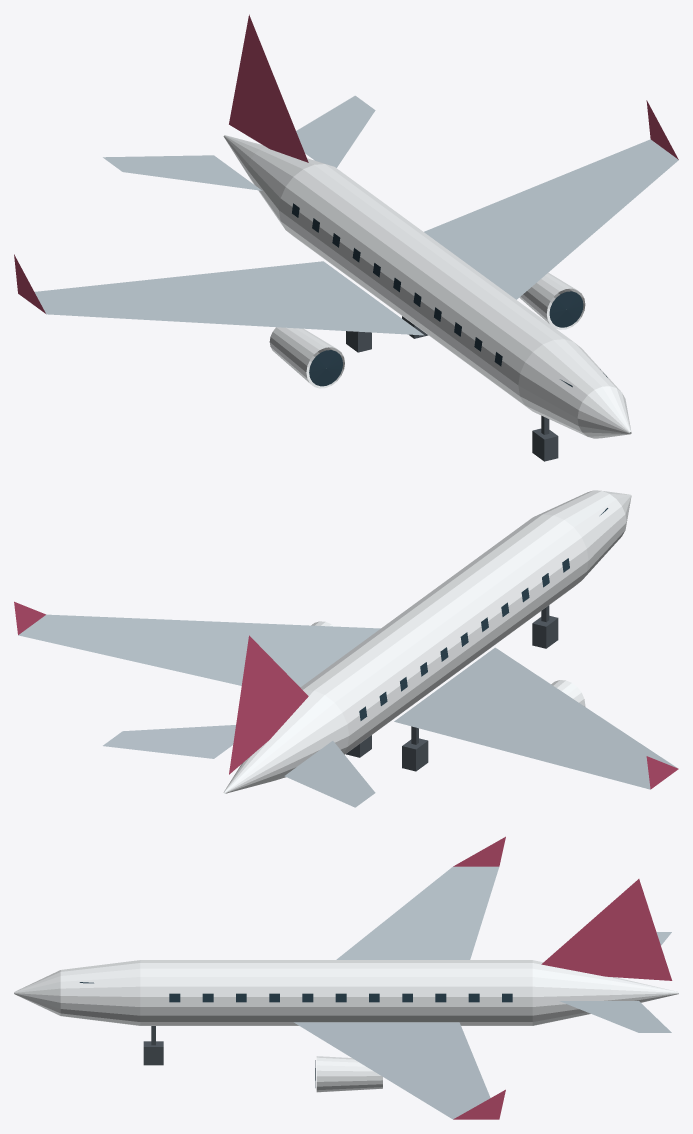
Rendered from generic-DAL.gltf.
3 views of the same model, one above another, from view 1: azimuth 30°, elevation 25°; view 2: azimuth 150°, elevation 25°; view 3: azimuth 270°, elevation 25° (orthographic). The views are drawn at different scales.
Visible parts, largest first — view 1: object 1, Gear; view 2: object 1, Gear; view 3: object 1, Gear.
Part boxes in pixels (x1=…): object 1: x1=14, y1=14, x2=678, y2=438; Gear: x1=346, y1=316, x2=558, y2=461; object 1: x1=14, y1=490, x2=678, y2=807; Gear: x1=346, y1=605, x2=558, y2=771; object 1: x1=14, y1=836, x2=678, y2=1119; Gear: x1=143, y1=1026, x2=163, y2=1065.
Bounding box in the file's own units: 36 × 12.2 × 40.
